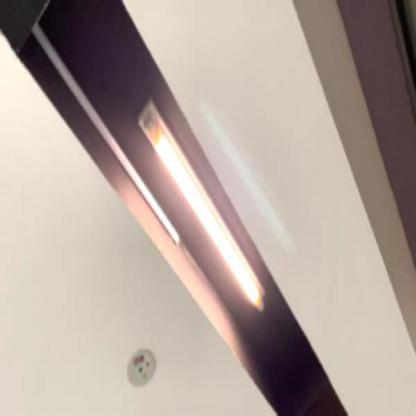light_on: (134, 90, 276, 320)
